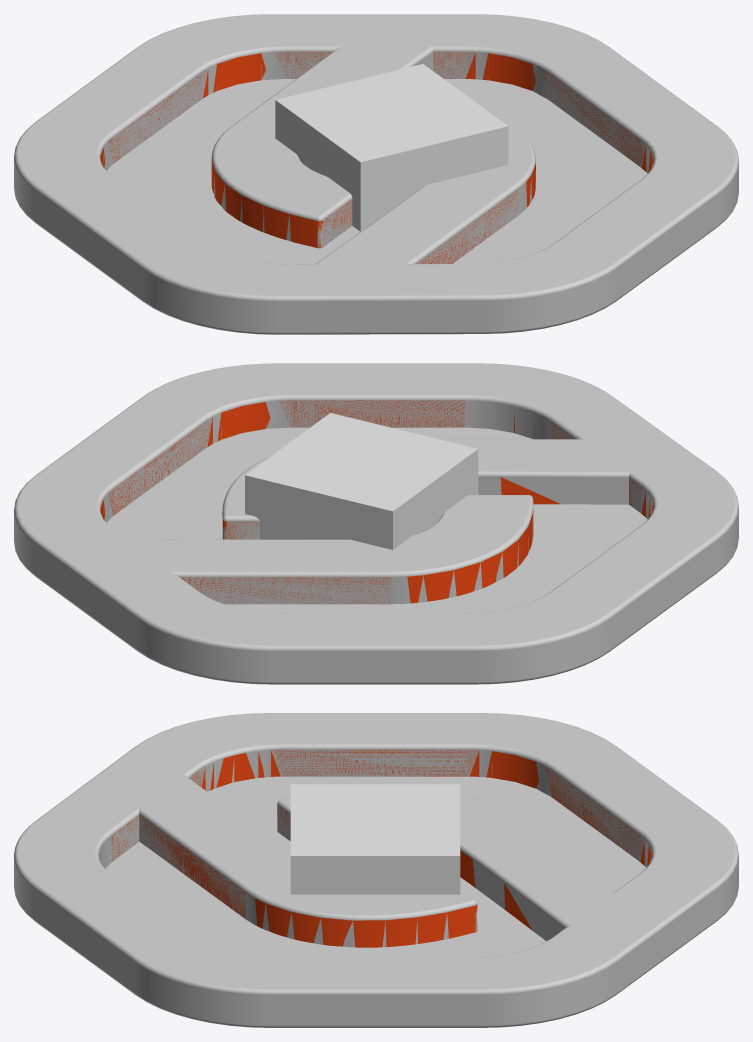
File: ligiaa.glb
3 views of the same model, one above another, from view 1: azimuth 30°, elevation 25°; view 2: azimuth 150°, elevation 25°; view 3: azimuth 270°, elevation 25° (orthographic).
Parts seen in each view (by area): view 1: ligiaa, Cube, liga2; view 2: ligiaa, Cube, liga2; view 3: ligiaa, Cube, liga2.
Part boxes in pixels (left/top/right/bottom): ligiaa: left=14, top=14, right=738, bottom=334; Cube: left=275, top=64, right=508, bottom=231; liga2: left=100, top=51, right=653, bottom=263; ligiaa: left=14, top=363, right=738, bottom=684; Cube: left=245, top=413, right=478, bottom=549; liga2: left=100, top=400, right=653, bottom=604; ligiaa: left=14, top=713, right=738, bottom=1027; Cube: left=290, top=784, right=460, bottom=894; liga2: left=111, top=749, right=651, bottom=947.
Size of the model in its own units: 7.79 by 2 by 8.55.
Materials: 3 (1 with a texture image).
